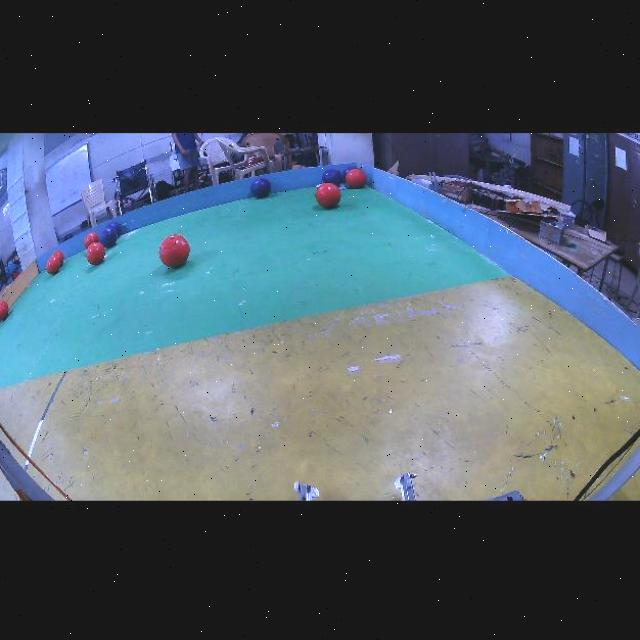P: (251, 178, 271, 198), (99, 228, 117, 248), (323, 169, 343, 186), (343, 165, 358, 182), (107, 223, 121, 237)
R: (159, 234, 190, 267), (315, 183, 342, 209), (86, 242, 105, 266), (346, 169, 367, 188), (47, 257, 61, 275), (84, 233, 99, 248), (0, 301, 8, 321), (53, 251, 64, 265)
